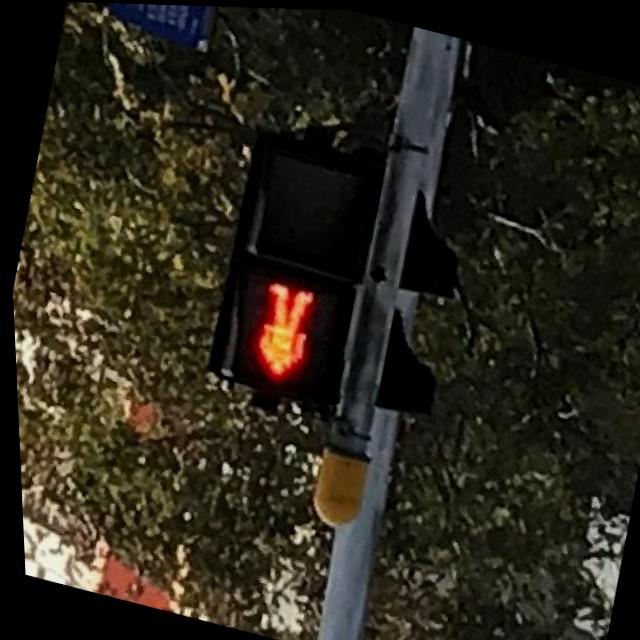red_light: (212, 261, 341, 406)
